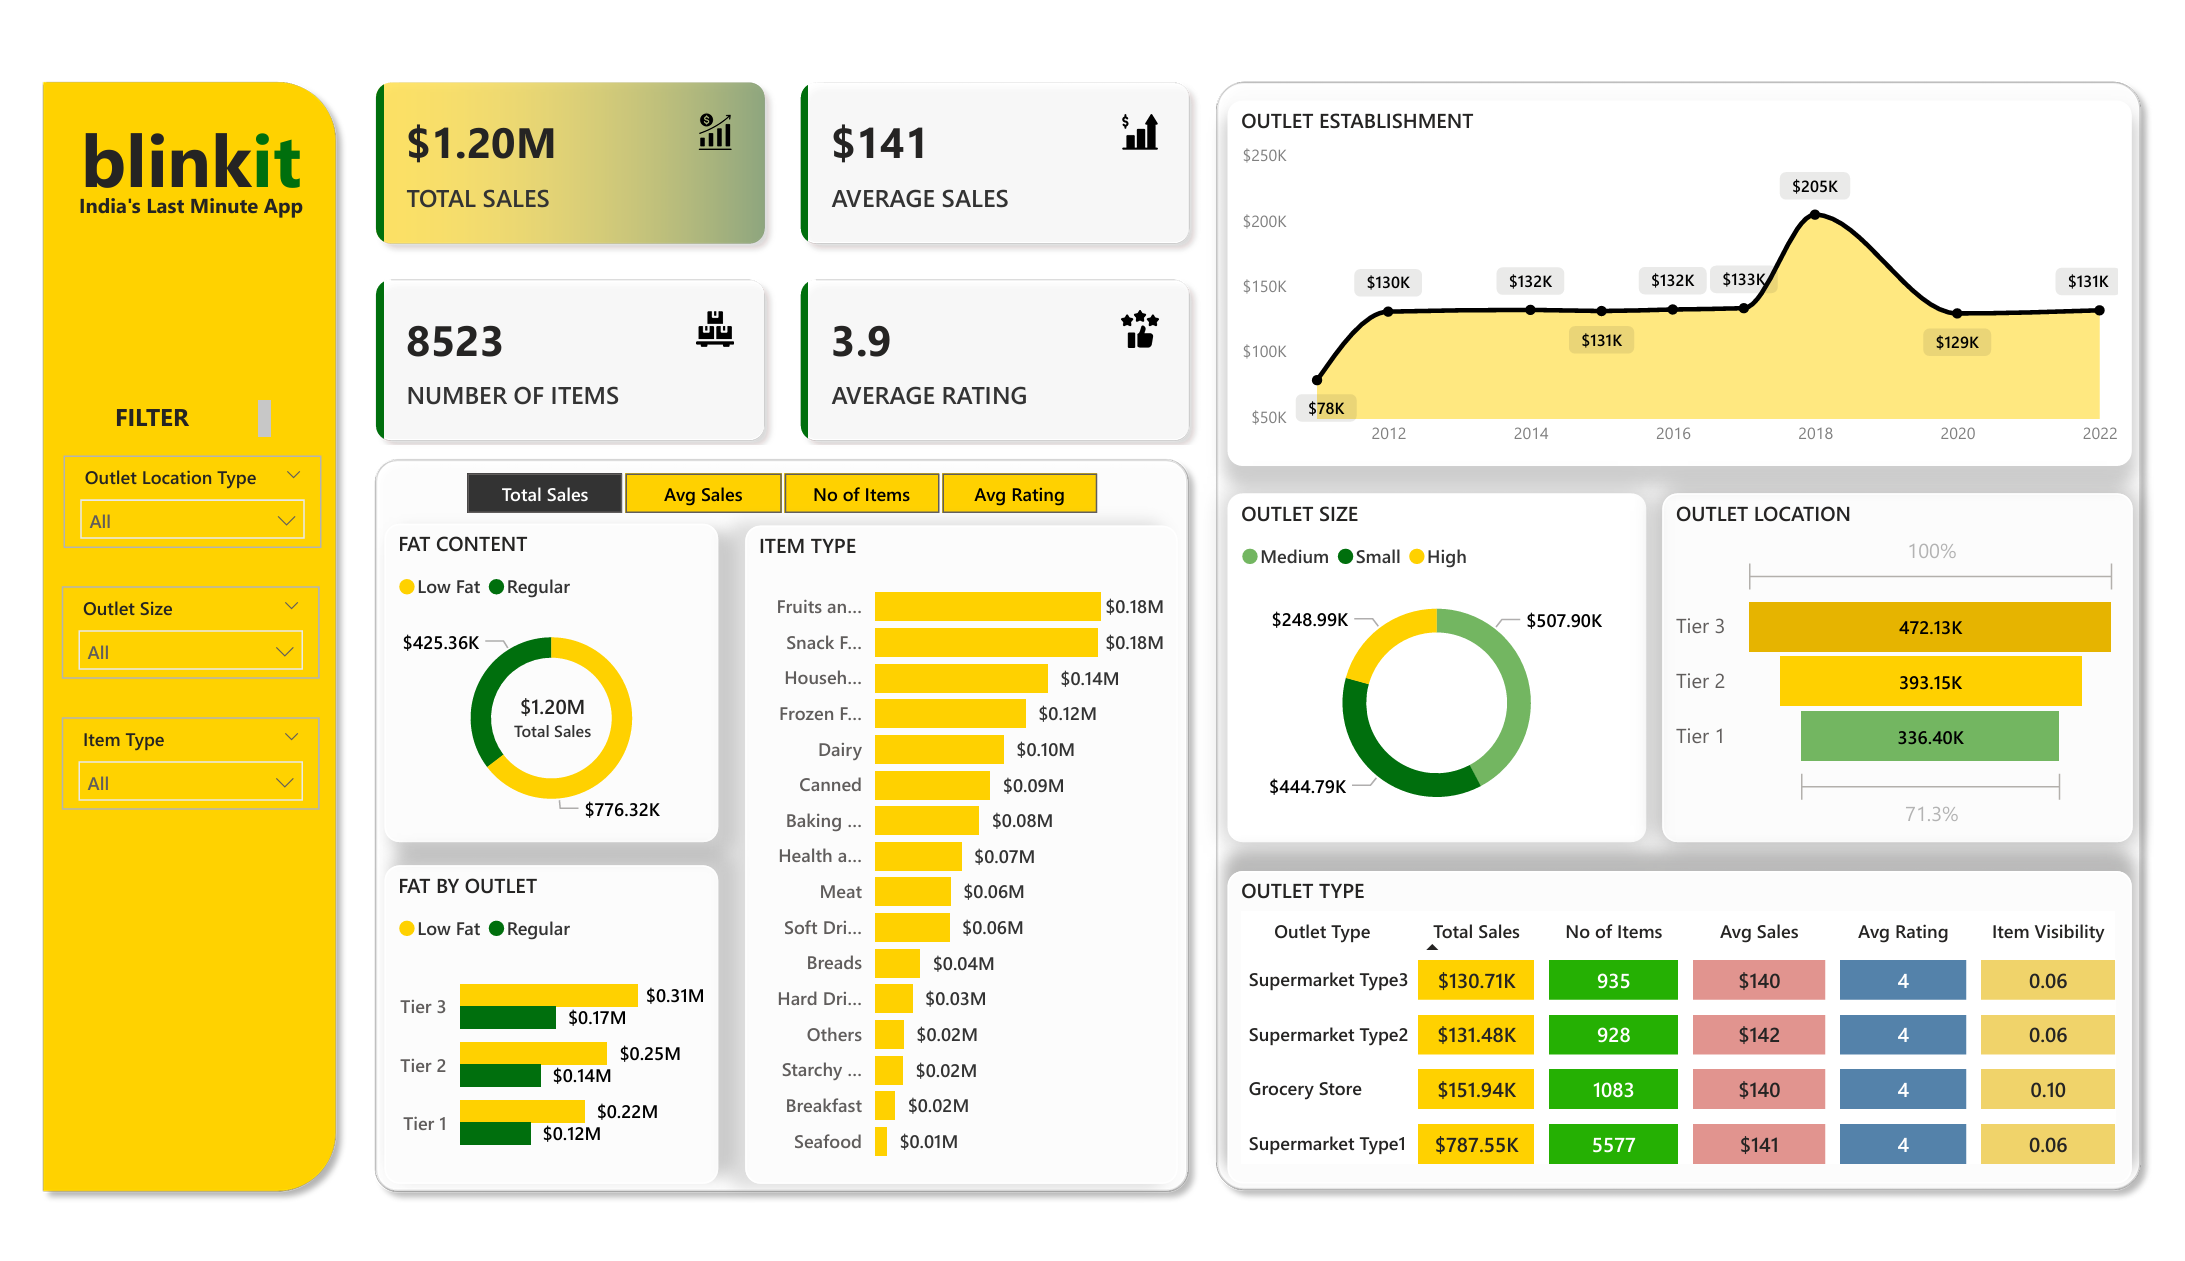

The page's visual inventory and layout, read from the dashboard file:
{"tool":"powerbi","page":{"name":"Sales Data","canvas":[1400,800],"ordinal":0},"visuals":[{"type":"shape","box":[0,25.8,210.9,749.6],"z":0},{"type":"textbox","box":[9.5,47.4,193.2,77.9],"z":1000},{"type":"textbox","box":[10,103.1,193.1,30],"z":2000},{"type":"cardVisual","fields":{"Data":["BlinkIT Grocery Data.Total Sales","BlinkIT Grocery Data.Average Sales","BlinkIT Grocery Data.Num of Items","BlinkIT Grocery Data.Average Rating"]},"box":[210.9,18.2,570,270],"z":3000},{"type":"shape","box":[219,274.8,553.7,500.6],"z":4000},{"type":"donutChart","title":"FAT CONTENT","fields":{"Y":["BlinkIT Grocery Data.Total Sales"],"Category":["BlinkIT Grocery Data.Item Fat Content"]},"box":[234.3,327.1,220,210],"z":5000},{"type":"slicer","fields":{"Values":["Metrics.Metrics"]},"box":[263.1,286.9,465,40],"z":6000},{"type":"cardVisual","fields":{"Data":["BlinkIT Grocery Data.Total Sales"]},"box":[297.3,414.5,94.5,80],"z":7000},{"type":"clusteredBarChart","title":"FAT BY OUTLET","fields":{"Y":["BlinkIT Grocery Data.Total Sales"],"Category":["BlinkIT Grocery Data.Outlet Location Type"],"Series":["BlinkIT Grocery Data.Item Fat Content"]},"box":[234,551.3,220,210],"z":8000},{"type":"barChart","title":"ITEM TYPE","fields":{"Y":["BlinkIT Grocery Data.Total Sales"],"Category":["BlinkIT Grocery Data.Item Type"]},"box":[471.2,327.5,285,433.8],"z":9000},{"type":"shape","box":[772.9,25.7,627.1,748.6],"z":10000},{"type":"lineChart","title":"OUTLET ESTABLISHMENT","fields":{"Y":["BlinkIT Grocery Data.Total Sales"],"Category":["BlinkIT Grocery Data.Outlet Establishment Year"]},"box":[790,47.1,595.7,241.4],"z":11000},{"type":"donutChart","title":"OUTLET SIZE","fields":{"Y":["BlinkIT Grocery Data.Total Sales"],"Category":["BlinkIT Grocery Data.Outlet Size"]},"box":[790,307.1,275.7,230],"z":12000},{"type":"funnel","title":"OUTLET LOCATION","fields":{"Category":["BlinkIT Grocery Data.Outlet Location Type"],"Y":["Sum(BlinkIT Grocery Data.Sales)"]},"box":[1075.7,307.1,310,230],"z":13000},{"type":"pivotTable","title":"OUTLET TYPE","fields":{"Rows":["BlinkIT Grocery Data.Outlet Type"],"Values":["BlinkIT Grocery Data.Total Sales","BlinkIT Grocery Data.Num of Items","BlinkIT Grocery Data.Average Sales","BlinkIT Grocery Data.Average Rating","Avg(BlinkIT Grocery Data.Item Visibility)"]},"box":[790,555.7,595.7,205.7],"z":14000},{"type":"slicer","fields":{"Values":["BlinkIT Grocery Data.Outlet Location Type"]},"box":[22,282,170,61],"z":15000},{"type":"slicer","fields":{"Values":["BlinkIT Grocery Data.Outlet Size"]},"box":[21.4,368,170,61.4],"z":16000},{"type":"slicer","fields":{"Values":["BlinkIT Grocery Data.Item Type"]},"box":[21.4,454.3,170,61.4],"z":17000},{"type":"textbox","box":[51.4,240,112.9,34.3],"z":18000}]}

Visuals, with their boxes in screenshot pixels (x1, y1, x2, y2), scaled from the page's 1400x800 canvas onto the 2185x1261 screenshot:
shape: l=0, t=41, r=329, b=1222
textbox: l=15, t=75, r=316, b=198
textbox: l=16, t=163, r=317, b=210
cardVisual - BlinkIT Grocery Data.Total Sales x BlinkIT Grocery Data.Average Sales: l=329, t=29, r=1219, b=454
shape: l=342, t=433, r=1206, b=1222
"FAT CONTENT" donutChart: l=366, t=516, r=709, b=847
slicer - Metrics.Metrics: l=411, t=452, r=1136, b=515
cardVisual - BlinkIT Grocery Data.Total Sales: l=464, t=653, r=611, b=779
"FAT BY OUTLET" clusteredBarChart: l=365, t=869, r=709, b=1200
"ITEM TYPE" barChart: l=735, t=516, r=1180, b=1200
shape: l=1206, t=41, r=2184, b=1220
"OUTLET ESTABLISHMENT" lineChart: l=1233, t=74, r=2163, b=455
"OUTLET SIZE" donutChart: l=1233, t=484, r=1663, b=847
"OUTLET LOCATION" funnel: l=1679, t=484, r=2163, b=847
"OUTLET TYPE" pivotTable: l=1233, t=876, r=2163, b=1200
slicer - BlinkIT Grocery Data.Outlet Location Type: l=34, t=445, r=300, b=541
slicer - BlinkIT Grocery Data.Outlet Size: l=33, t=580, r=299, b=677
slicer - BlinkIT Grocery Data.Item Type: l=33, t=716, r=299, b=813
textbox: l=80, t=378, r=256, b=432
